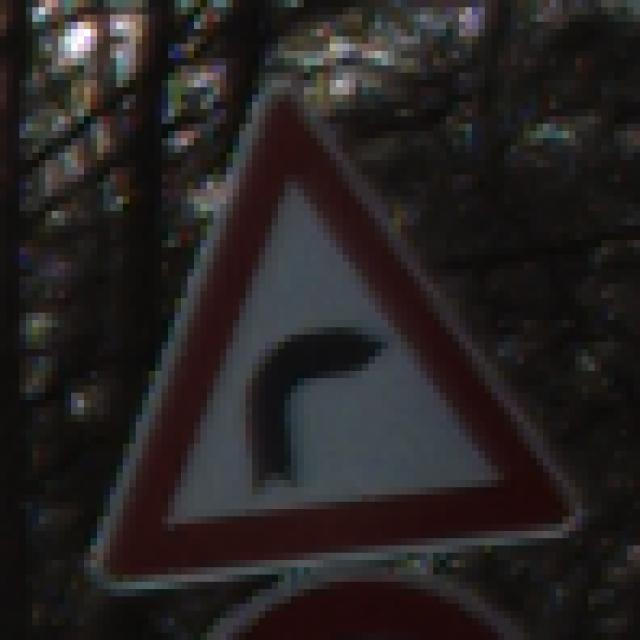right hand curve: (87, 90, 588, 592)
